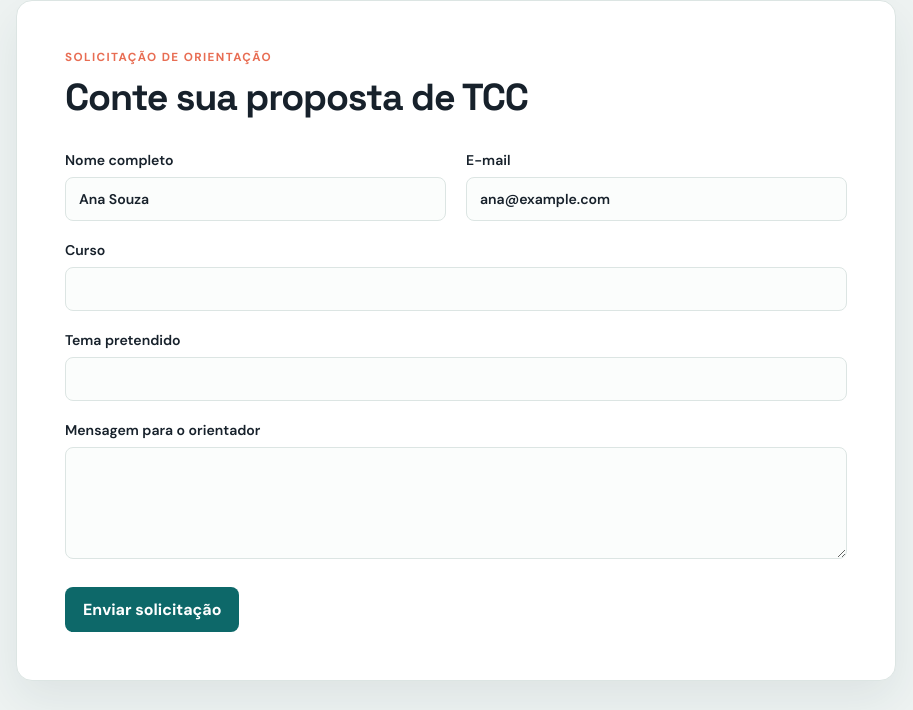
Scenario: SolicitacaoForm › envia apenas o curso, sem nome e e-mail do aluno, e usa o id devolvido no 201
This screenshot has width=913, height=710.
Type "ADS" into the field labelled "Curso" at x=456, y=289, box [65,267,847,311]
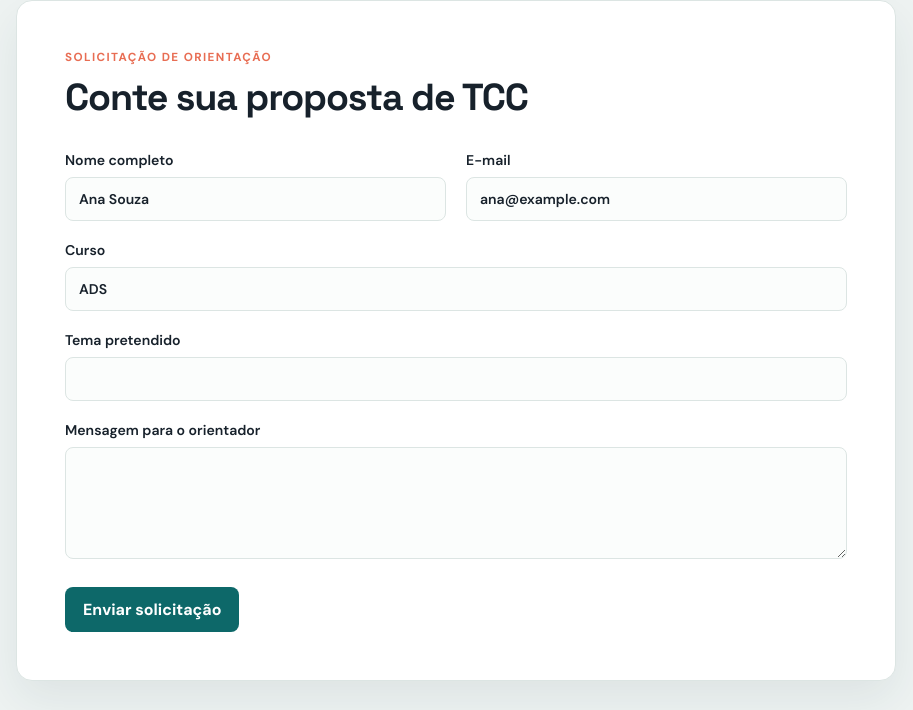
Type "Tema de teste" into the field labelled "Tema pretendido" at x=456, y=379, box [65,357,847,401]
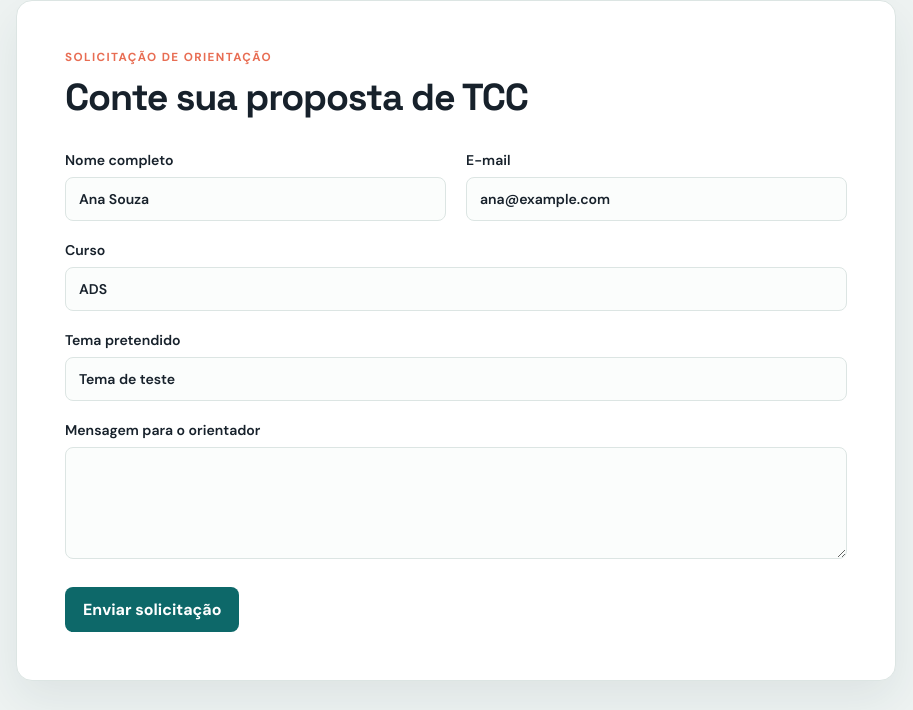
Type "Mensagem válida de teste" into the text box labelled "Mensagem para o orientador" at x=456, y=503, box [65,447,847,559]
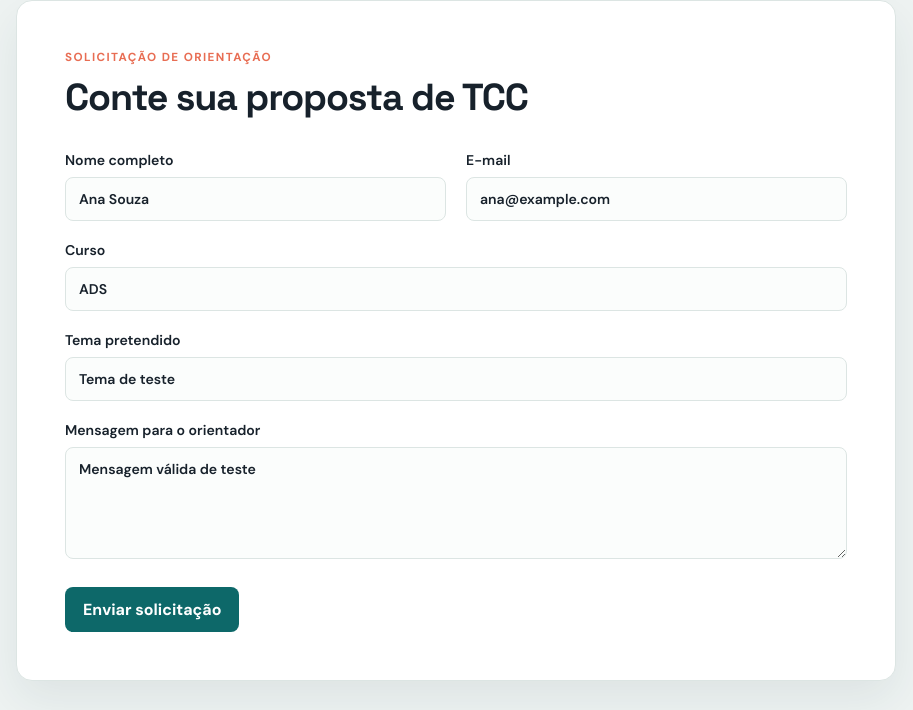
Click the button "Enviar solicitação" at x=152, y=610, box [65,587,239,632]
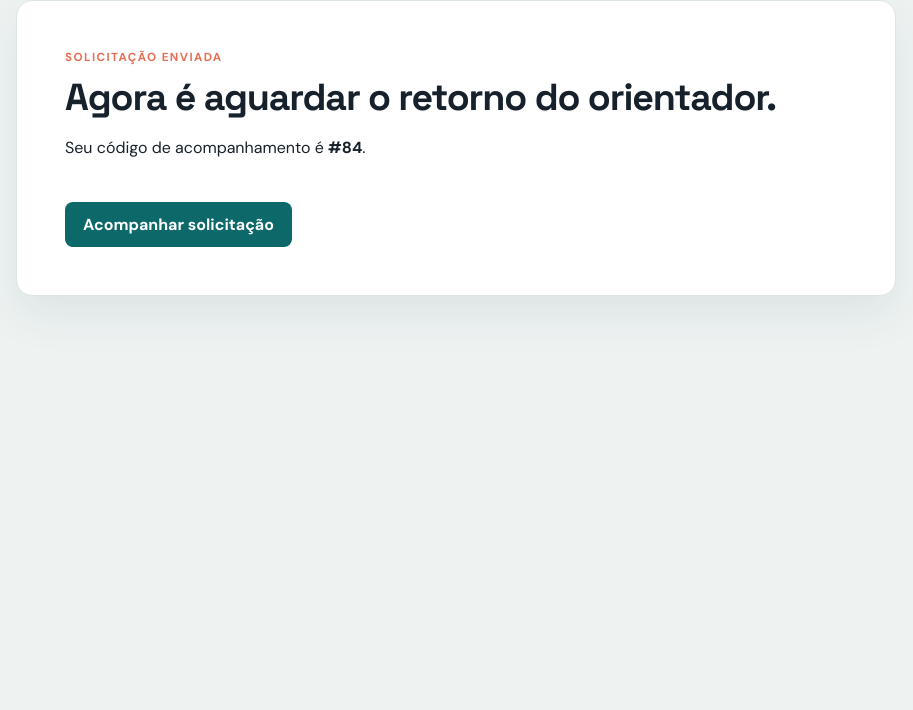
Expected: the text "#84" is shown, [328,137,362,158]
